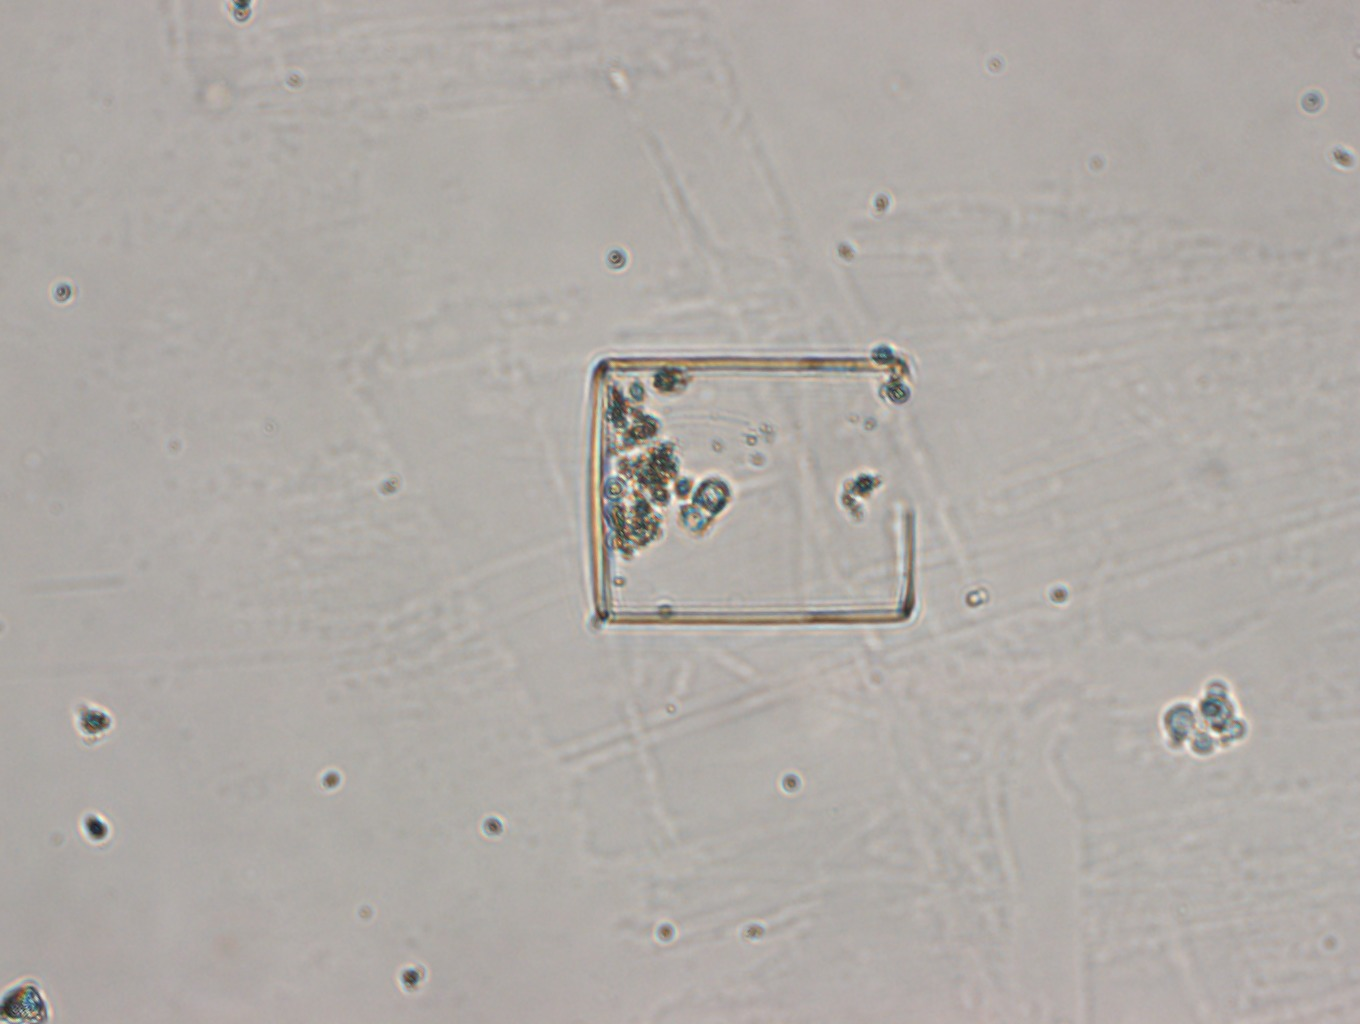guinardia flaccida: (581, 346, 919, 629)
